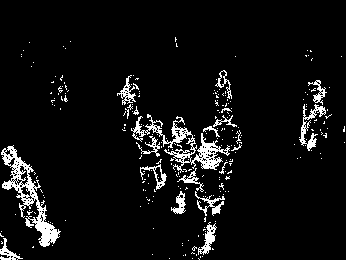person: (3, 146, 63, 245), (194, 126, 223, 256), (166, 117, 195, 214), (297, 72, 328, 153), (134, 115, 166, 190), (215, 109, 240, 180), (213, 67, 236, 111), (119, 76, 141, 121)
